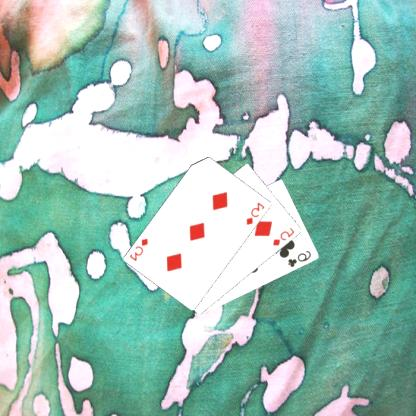3D: (245, 199, 268, 227), (129, 235, 152, 263)
5D: (272, 225, 298, 247)
6C: (287, 248, 314, 268)
